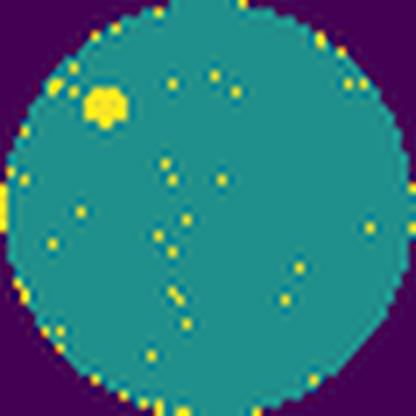Loc: (86, 85, 129, 130)
